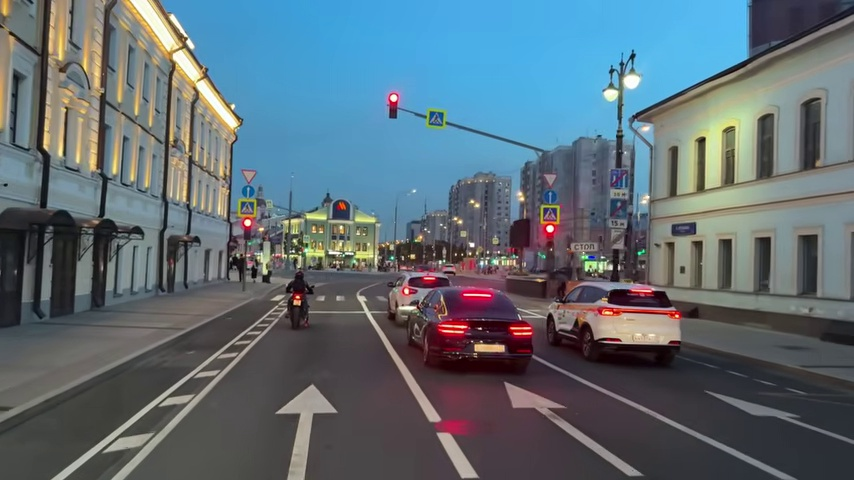acesa: (216, 101, 237, 128), (621, 72, 640, 91)
